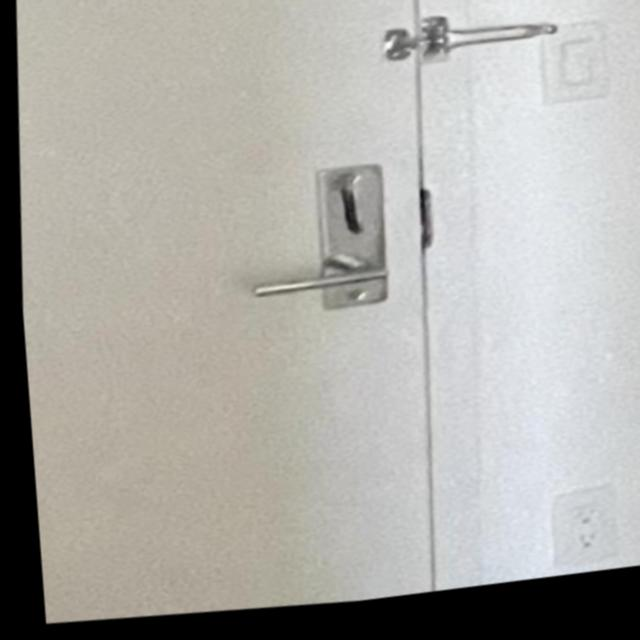door_handle: (231, 248, 412, 329)
